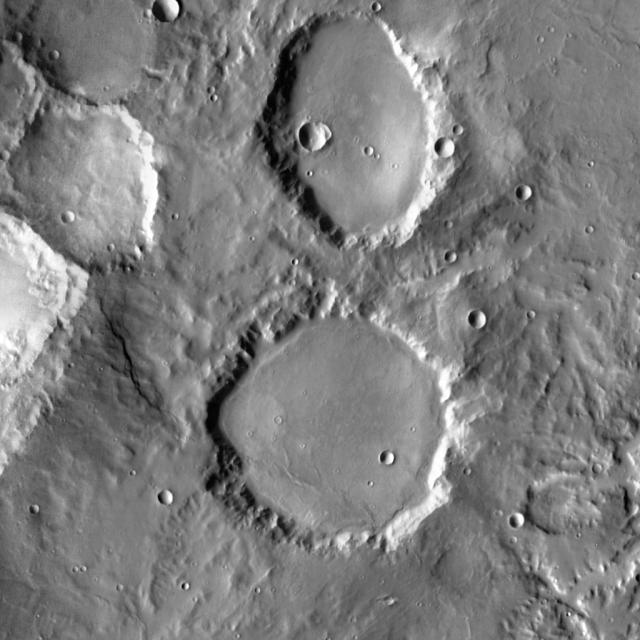crater: (212, 301, 466, 555), (256, 26, 464, 233), (12, 107, 175, 270), (47, 0, 163, 107), (534, 473, 596, 534), (306, 120, 335, 150), (159, 0, 185, 22), (441, 136, 464, 158), (477, 311, 493, 327), (517, 513, 532, 528), (165, 486, 180, 500), (388, 450, 402, 464), (524, 185, 538, 199), (69, 211, 82, 224), (5, 149, 17, 160), (599, 463, 610, 473), (19, 31, 30, 41), (452, 250, 462, 260), (151, 9, 161, 19), (56, 51, 66, 60), (461, 126, 470, 135), (373, 144, 382, 153), (38, 506, 47, 515), (392, 595, 400, 603), (534, 310, 542, 318), (282, 414, 290, 422), (190, 582, 198, 590), (214, 85, 222, 93), (381, 0, 388, 8), (109, 238, 116, 246), (80, 561, 88, 568), (536, 28, 543, 36), (210, 86, 218, 93), (451, 220, 458, 228), (587, 220, 594, 227), (173, 207, 180, 214), (496, 502, 503, 509), (517, 536, 524, 543), (470, 468, 477, 475), (292, 250, 299, 256), (116, 578, 122, 584)
